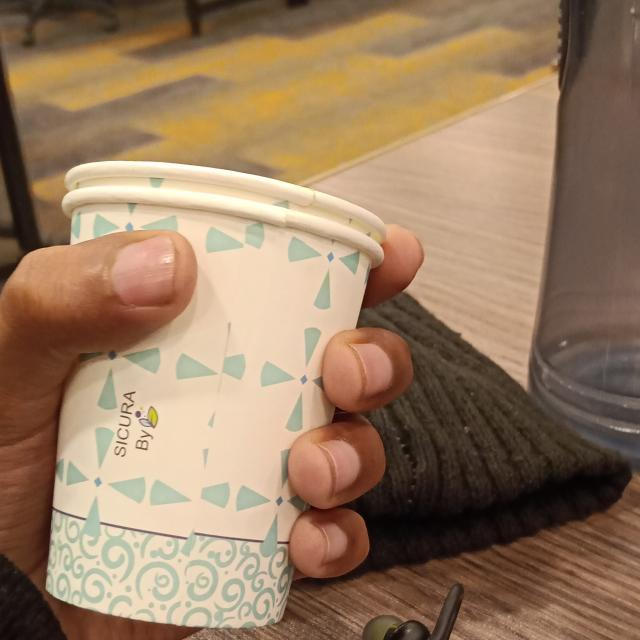Nail: (112, 236, 175, 306), (351, 344, 392, 396), (318, 440, 359, 492), (314, 522, 348, 561)
